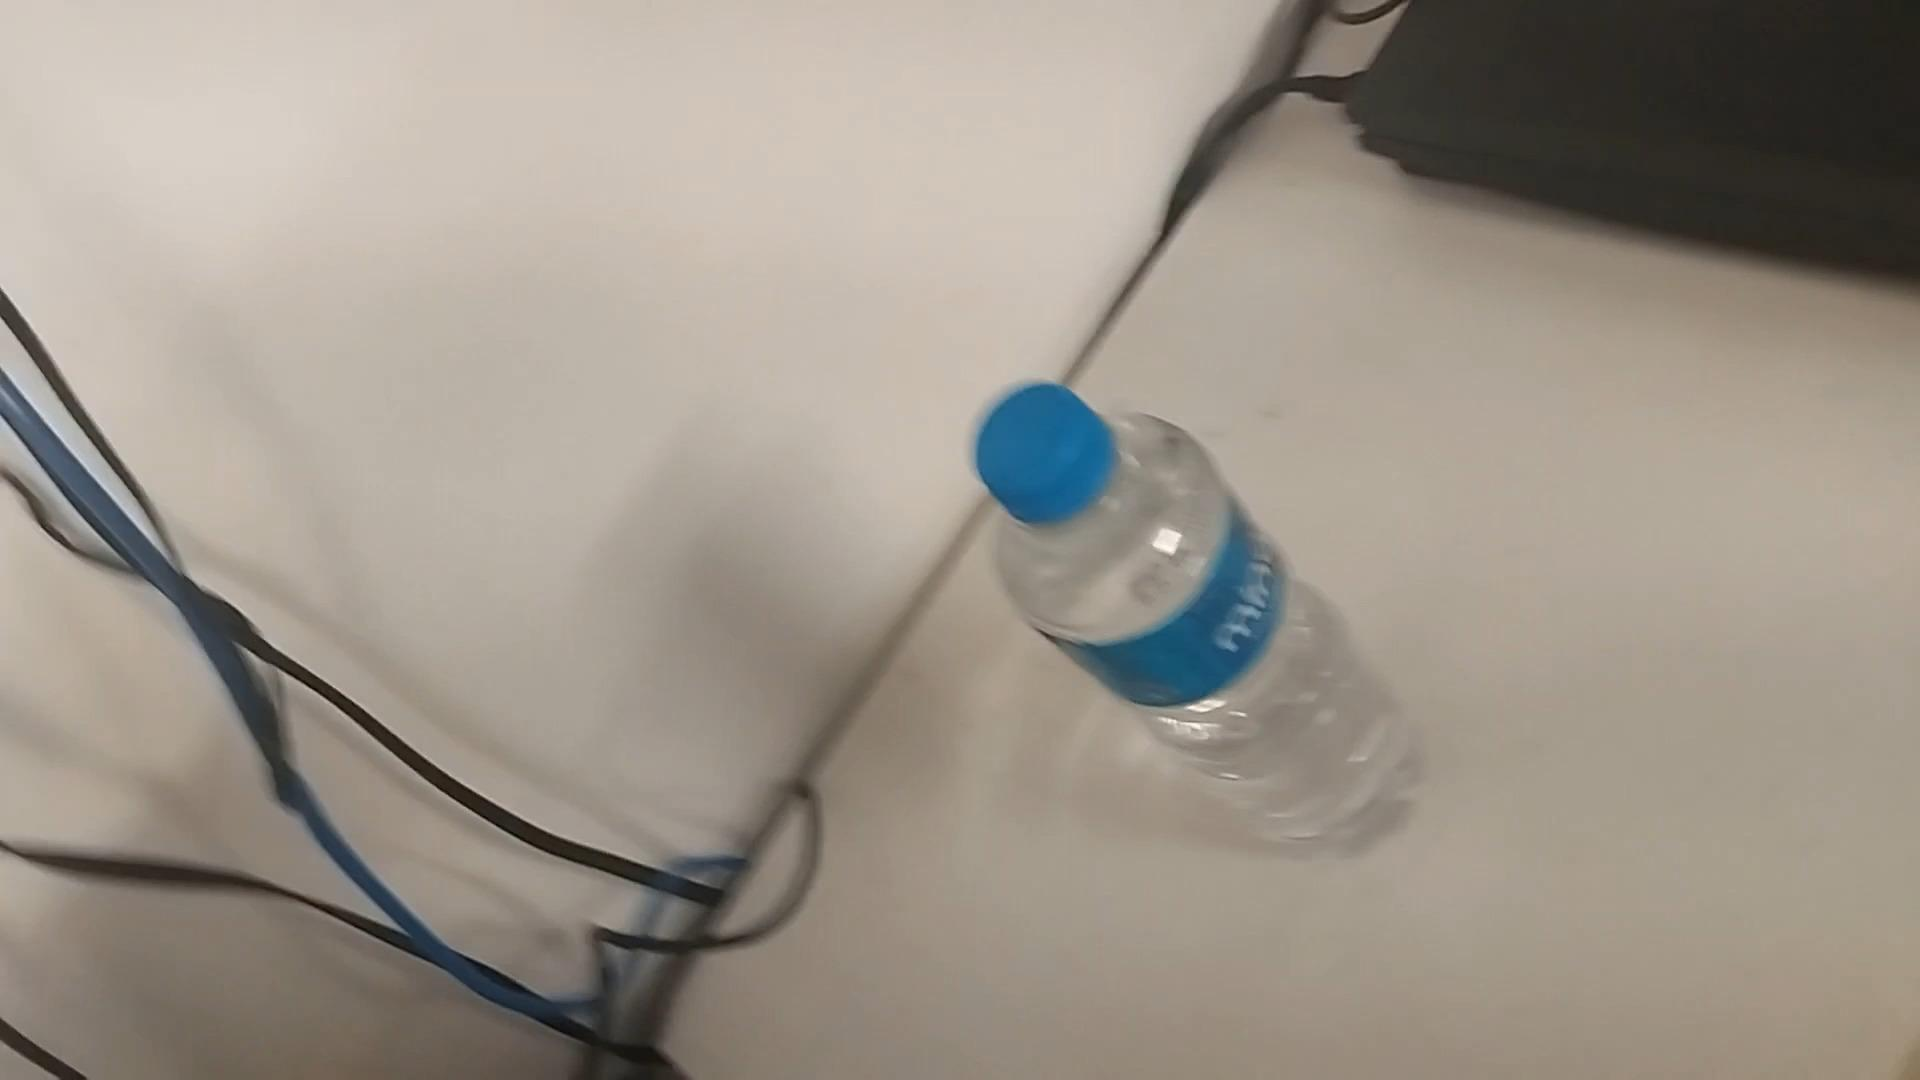agua: (977, 380, 1414, 849)
